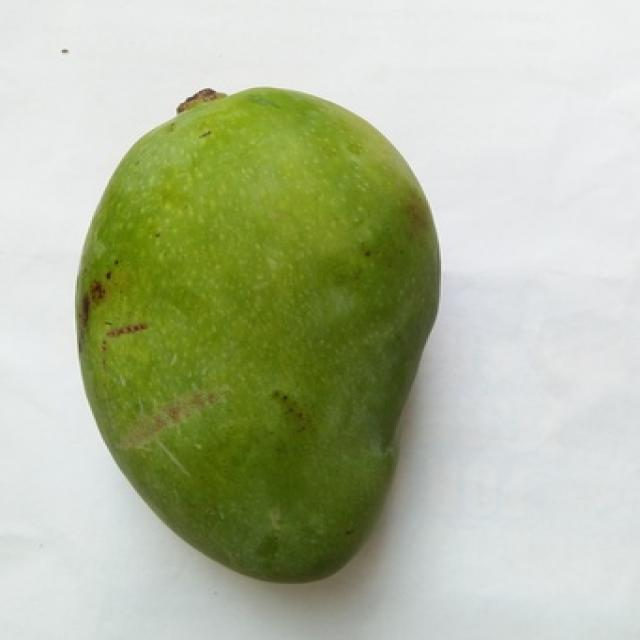Mango: (77, 88, 435, 581)
